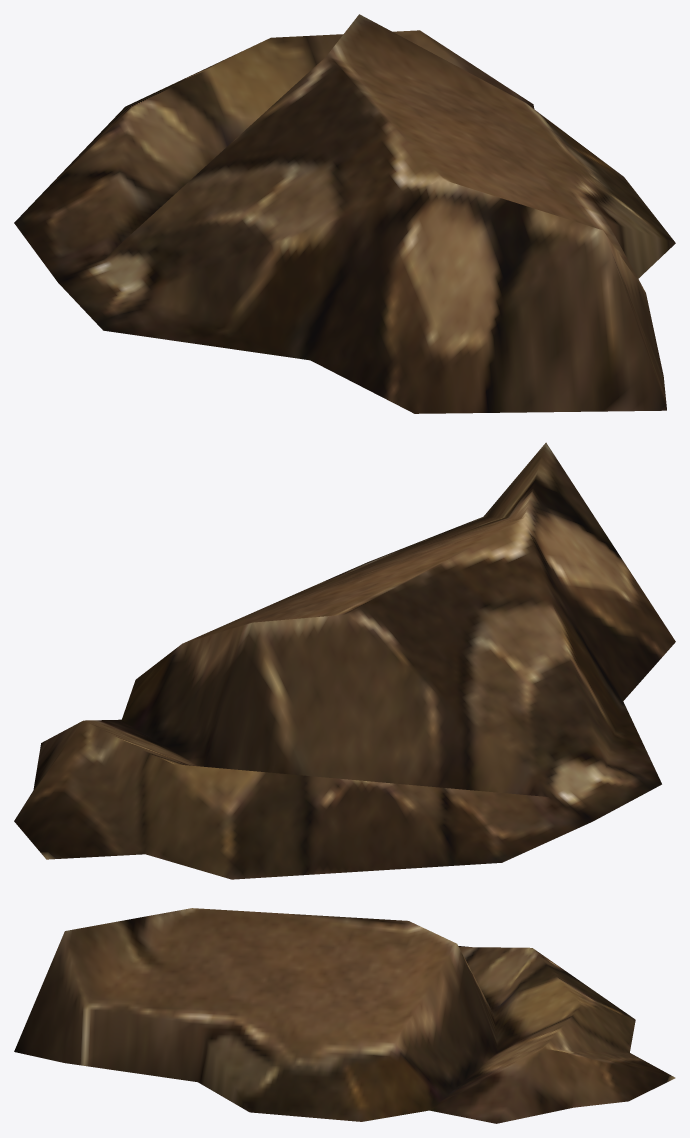
The model's file is A_shitou004.fbx.
3 renders of one model, top to bottom at view 1: azimuth 30°, elevation 25°; view 2: azimuth 150°, elevation 25°; view 3: azimuth 270°, elevation 25°, orthographic. The views are drawn at different scales.
Parts seen in each view (by area): view 1: A_shitou004; view 2: A_shitou004; view 3: A_shitou004.
Part boxes in pixels (<box>): A_shitou004: <box>14,14,675,413</box>; A_shitou004: <box>14,442,675,879</box>; A_shitou004: <box>14,908,675,1123</box>.
Bounding box in the file's own units: 112 × 31.06 × 167.
